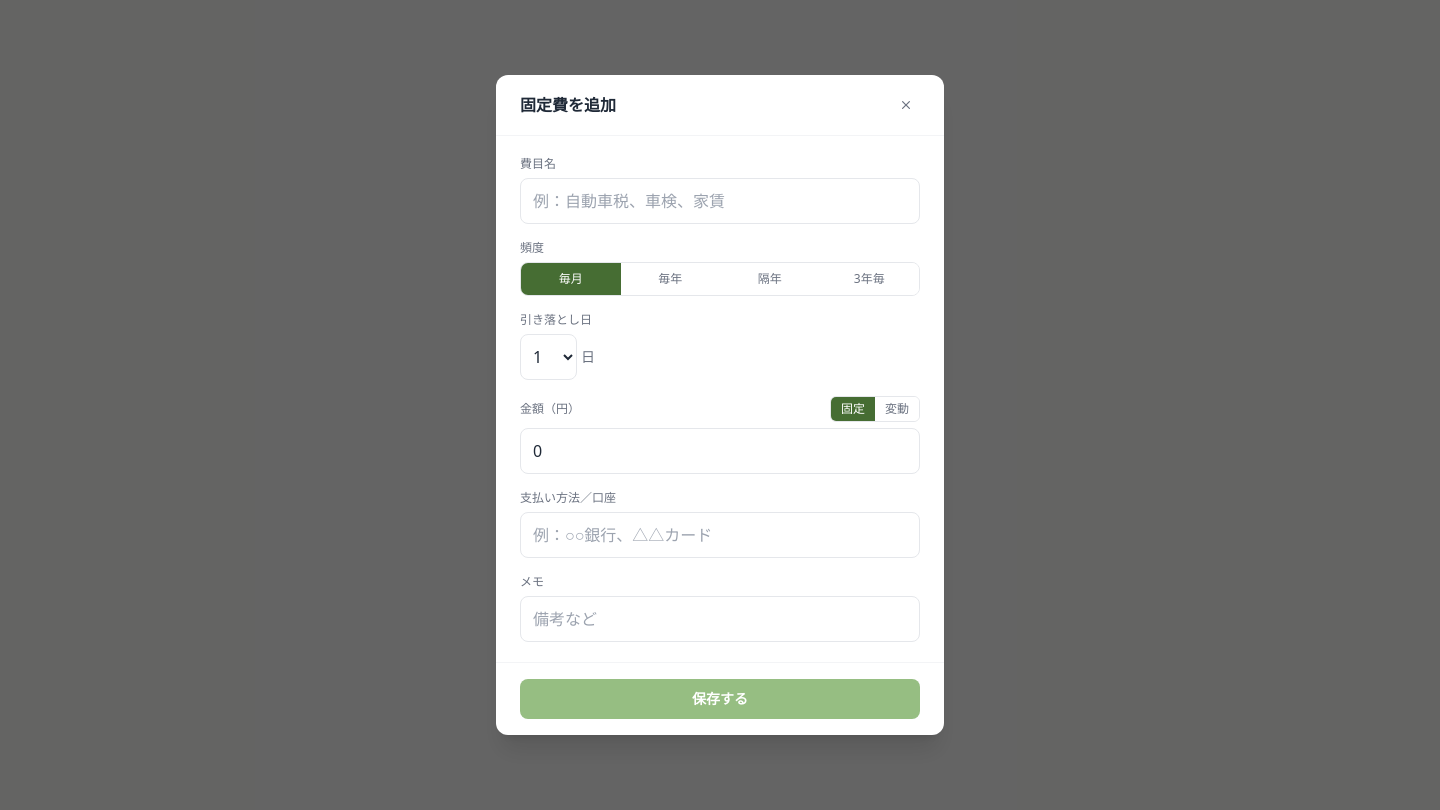
Test: FixedCostModal › 「隔年」を選択すると基準年フィールドが表示される
Click the button "隔年".
click(770, 279)  # box [720,263,820,295]
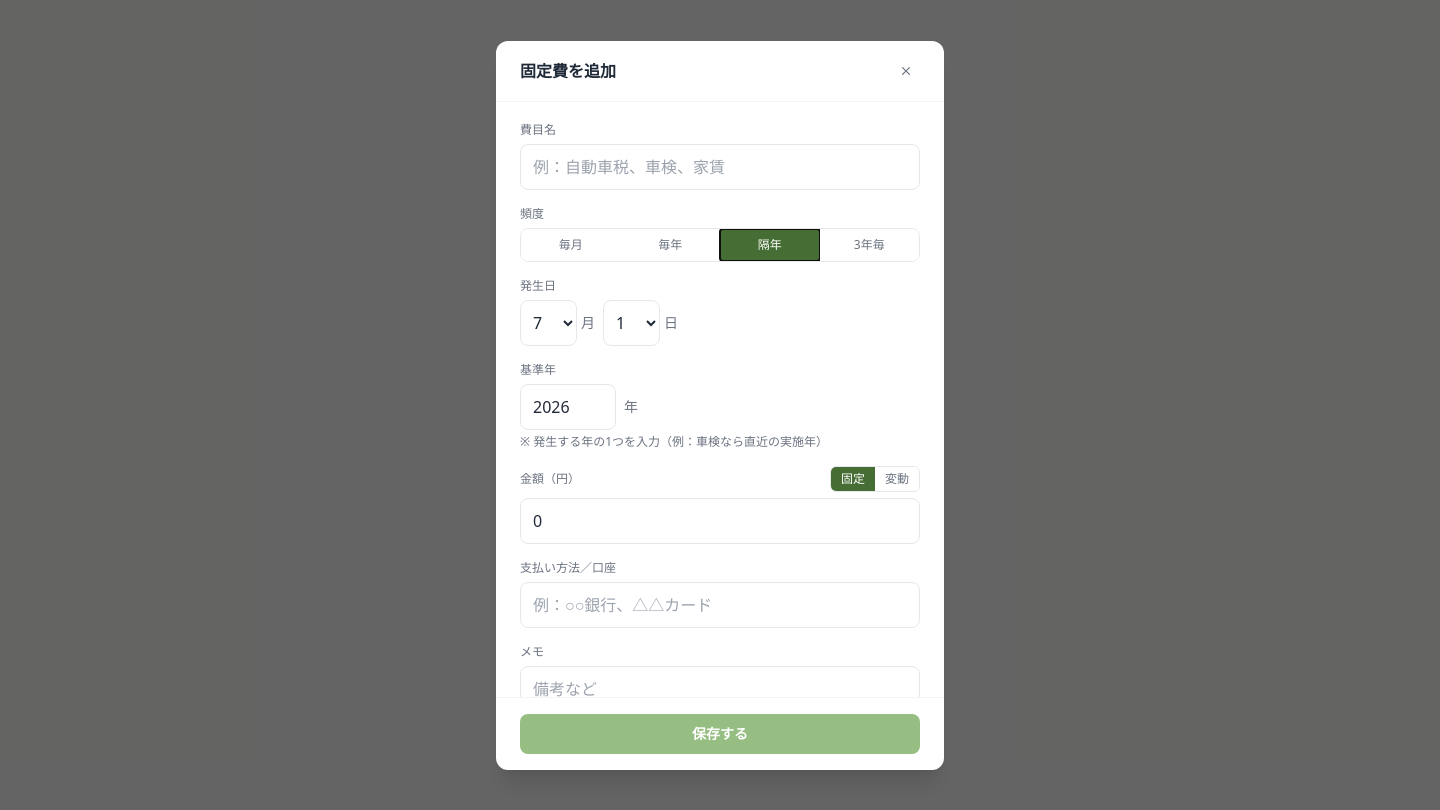
Expected: the text "基準年" is shown, [520,360,556,378]
